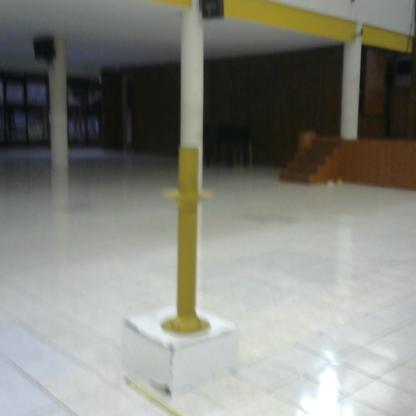pole: (156, 137, 223, 342)
